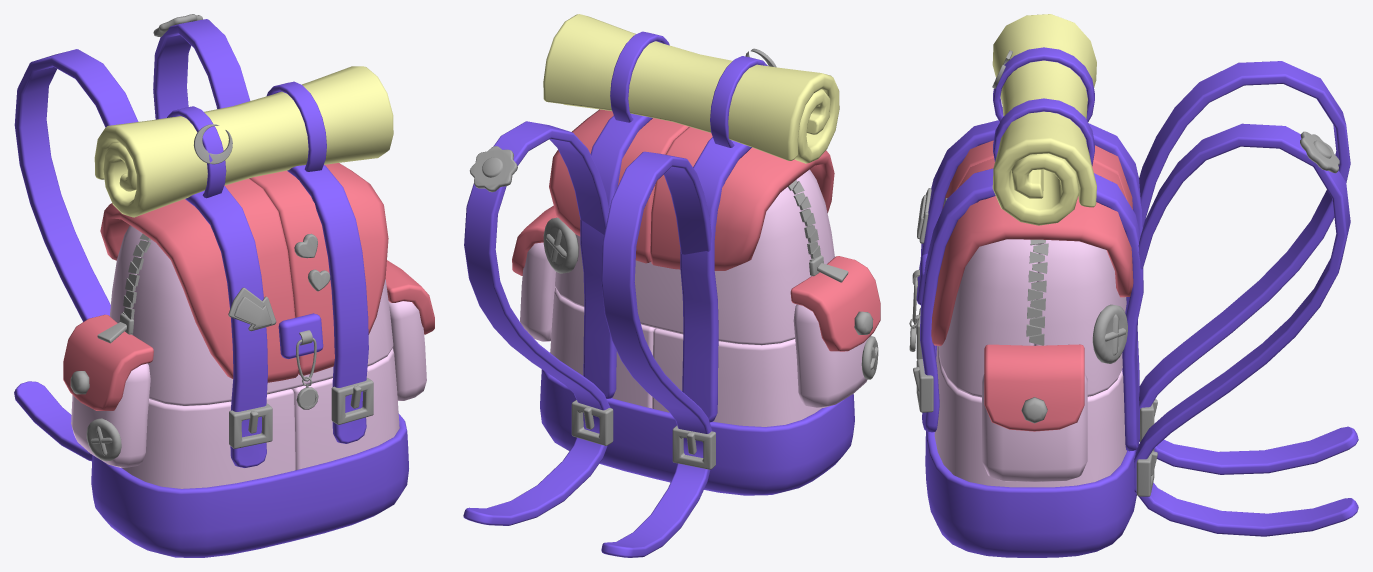
Rendered from SchoolsBag02.fbx.
3 views of the same model, side by side, from view 1: azimuth 30°, elevation 25°; view 2: azimuth 150°, elevation 25°; view 3: azimuth 270°, elevation 25° (orthographic). The views are drawn at different scales.
Parts seen in each view (by area): view 1: S_SchoolsBag_11, S_SchoolsBag_1, S_SchoolsBag_16, S_SchoolsBag_6, S_SchoolsBag_14, S_SchoolsBag_12, S_SchoolsBag_7, S_SchoolsBag_4, S_SchoolsBag_5, S_SchoolsBag_17, S_SchoolsBag_13, S_SchoolsBag_9 (+13 smaller); view 2: S_SchoolsBag_1, S_SchoolsBag_16, S_SchoolsBag_11, S_SchoolsBag_17, S_SchoolsBag_15, S_SchoolsBag_6, S_SchoolsBag_12, S_SchoolsBag_5, S_SchoolsBag_4, S_SchoolsBag_9, S_SchoolsBag_7, M_SchoolsBag_8 (+11 smaller); view 3: S_SchoolsBag_16, S_SchoolsBag_17, S_SchoolsBag_1, S_SchoolsBag_11, S_SchoolsBag_14, S_SchoolsBag_7, S_SchoolsBag_4, S_SchoolsBag_13, S_SchoolsBag_15, S_SchoolsBag_10, M_SchoolsBag_9, S_SchoolsBag_5 (+7 smaller).
Boxes of the visible parts, x1=… form: S_SchoolsBag_11: x1=91, y1=413, x2=408, y2=557; S_SchoolsBag_1: x1=94, y1=66, x2=393, y2=217; S_SchoolsBag_16: x1=14, y1=49, x2=138, y2=461; S_SchoolsBag_6: x1=100, y1=178, x2=298, y2=382; S_SchoolsBag_14: x1=132, y1=239, x2=393, y2=405; S_SchoolsBag_12: x1=121, y1=389, x2=295, y2=488; S_SchoolsBag_7: x1=249, y1=163, x2=388, y2=375; S_SchoolsBag_4: x1=287, y1=165, x2=368, y2=443; S_SchoolsBag_5: x1=185, y1=186, x2=267, y2=467; S_SchoolsBag_17: x1=153, y1=19, x2=250, y2=119; S_SchoolsBag_13: x1=291, y1=348, x2=399, y2=469; S_SchoolsBag_9: x1=63, y1=314, x2=153, y2=410; S_SchoolsBag_1: x1=543, y1=14, x2=839, y2=163; S_SchoolsBag_16: x1=601, y1=151, x2=712, y2=557; S_SchoolsBag_11: x1=540, y1=352, x2=854, y2=495; S_SchoolsBag_17: x1=463, y1=121, x2=610, y2=525; S_SchoolsBag_15: x1=555, y1=187, x2=811, y2=345; S_SchoolsBag_6: x1=650, y1=127, x2=834, y2=270; S_SchoolsBag_12: x1=652, y1=328, x2=821, y2=426; S_SchoolsBag_5: x1=680, y1=137, x2=751, y2=422; S_SchoolsBag_4: x1=580, y1=113, x2=652, y2=398; S_SchoolsBag_9: x1=790, y1=256, x2=880, y2=351; S_SchoolsBag_7: x1=549, y1=109, x2=688, y2=263; M_SchoolsBag_8: x1=793, y1=304, x2=871, y2=407; S_SchoolsBag_16: x1=1139, y1=61, x2=1358, y2=474; S_SchoolsBag_17: x1=1134, y1=123, x2=1358, y2=536; S_SchoolsBag_1: x1=992, y1=14, x2=1096, y2=225; S_SchoolsBag_11: x1=925, y1=431, x2=1138, y2=557; S_SchoolsBag_14: x1=938, y1=239, x2=1039, y2=397; S_SchoolsBag_7: x1=931, y1=158, x2=1133, y2=345; S_SchoolsBag_4: x1=920, y1=168, x2=1143, y2=451; S_SchoolsBag_13: x1=934, y1=345, x2=1126, y2=487; S_SchoolsBag_15: x1=1034, y1=240, x2=1126, y2=396; S_SchoolsBag_10: x1=984, y1=344, x2=1084, y2=431; M_SchoolsBag_9: x1=982, y1=373, x2=1087, y2=481; S_SchoolsBag_5: x1=920, y1=120, x2=1142, y2=396.
Size of the model in its own units: 287 by 324 by 307.
